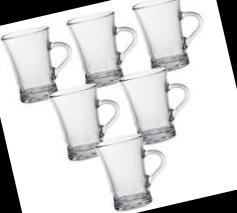glass: (53, 0, 147, 95), (0, 13, 79, 113), (122, 0, 216, 81)
